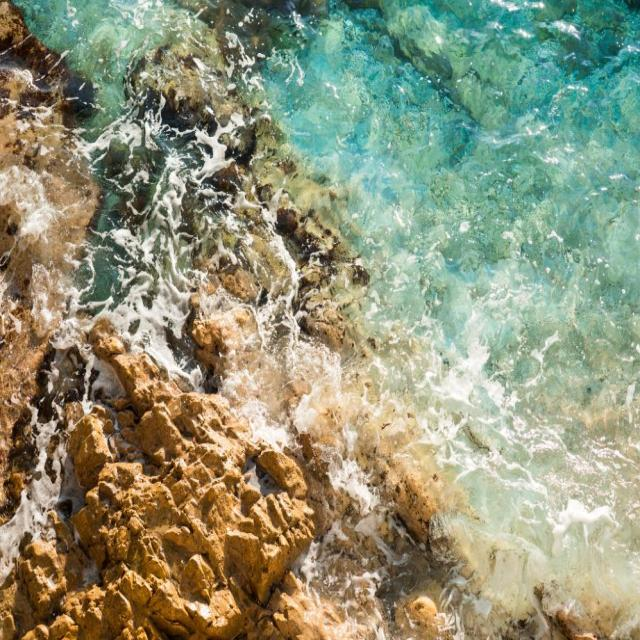reef: (11, 105, 358, 638)
